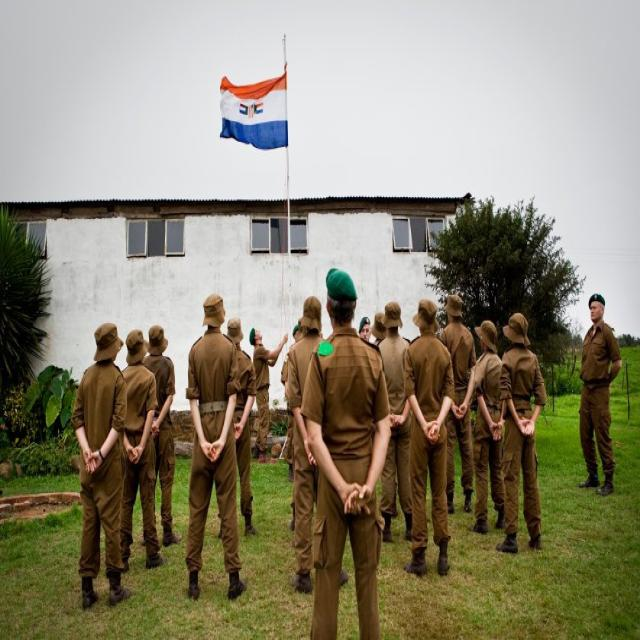body: (297, 263, 393, 639), (182, 290, 246, 601), (286, 292, 351, 595), (70, 318, 132, 608), (401, 296, 457, 578), (495, 308, 548, 553), (118, 328, 164, 571), (375, 300, 415, 543), (577, 290, 624, 496), (141, 323, 184, 547), (439, 292, 477, 514), (226, 313, 259, 537), (473, 318, 507, 532), (248, 323, 289, 459), (279, 323, 301, 483), (370, 311, 389, 347), (358, 316, 373, 344)
